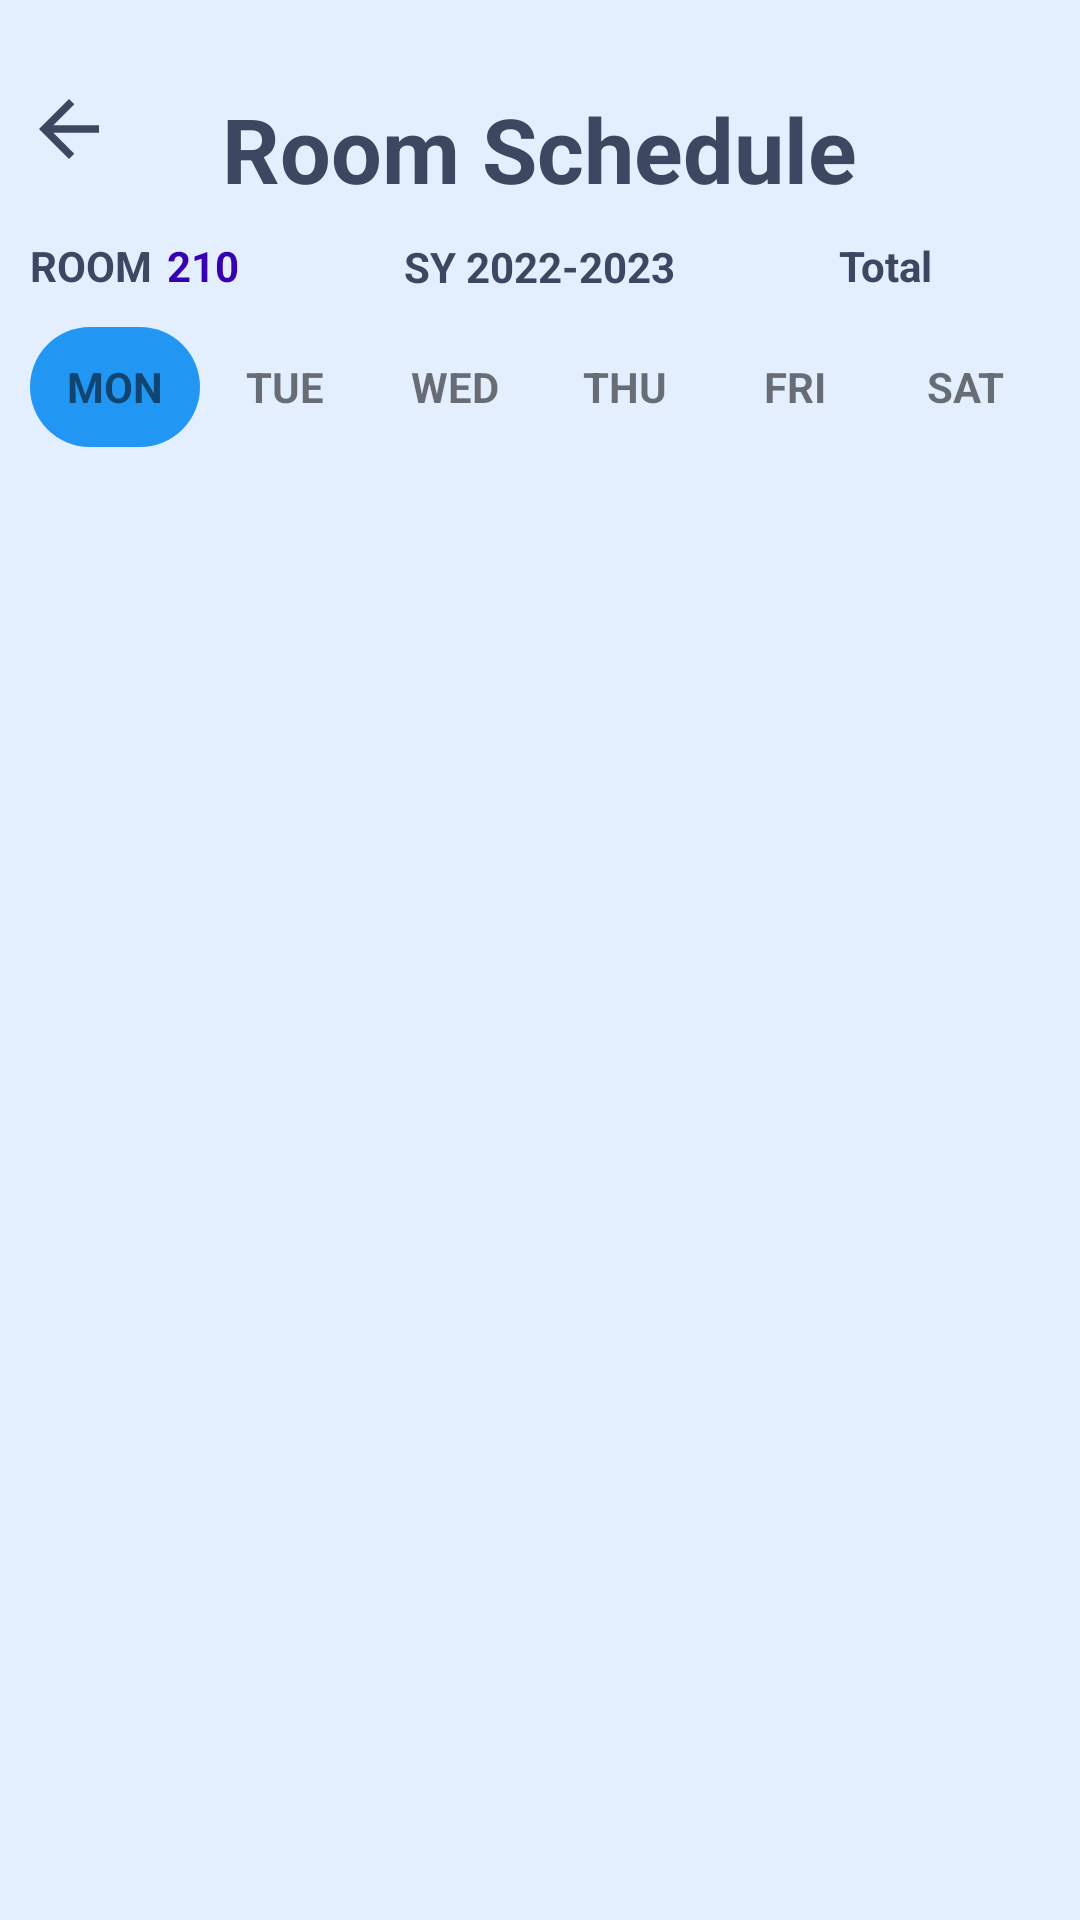

Icon click points for this 1080×1920 phone screenshot, format [x,y]:
arrow back: [69,129]
